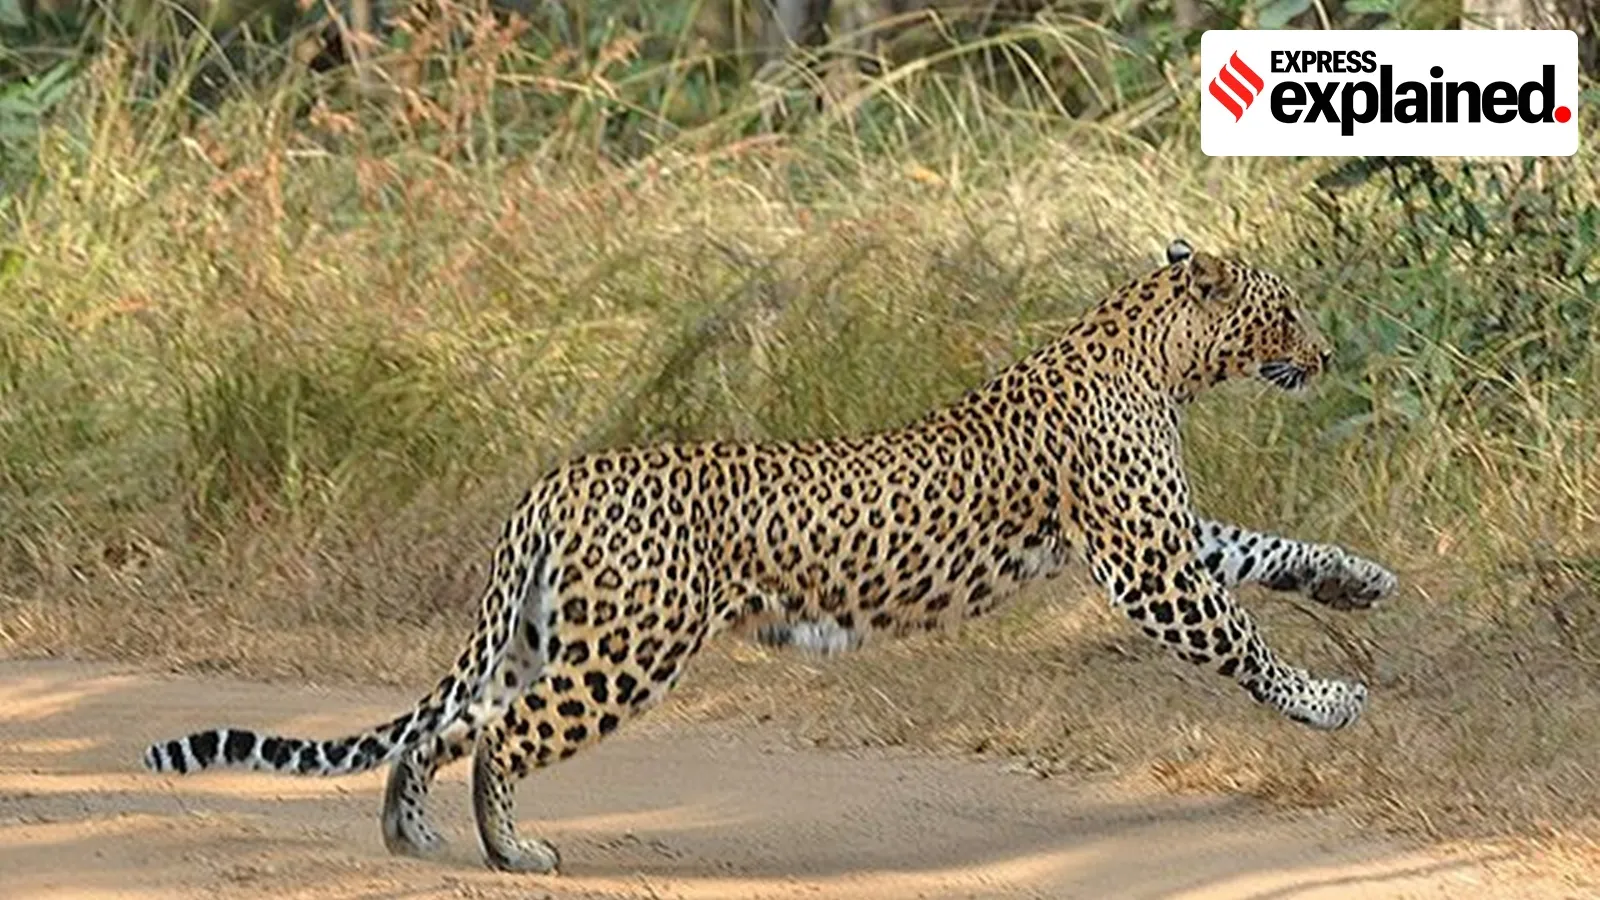Leopard: (140, 238, 1403, 873)
